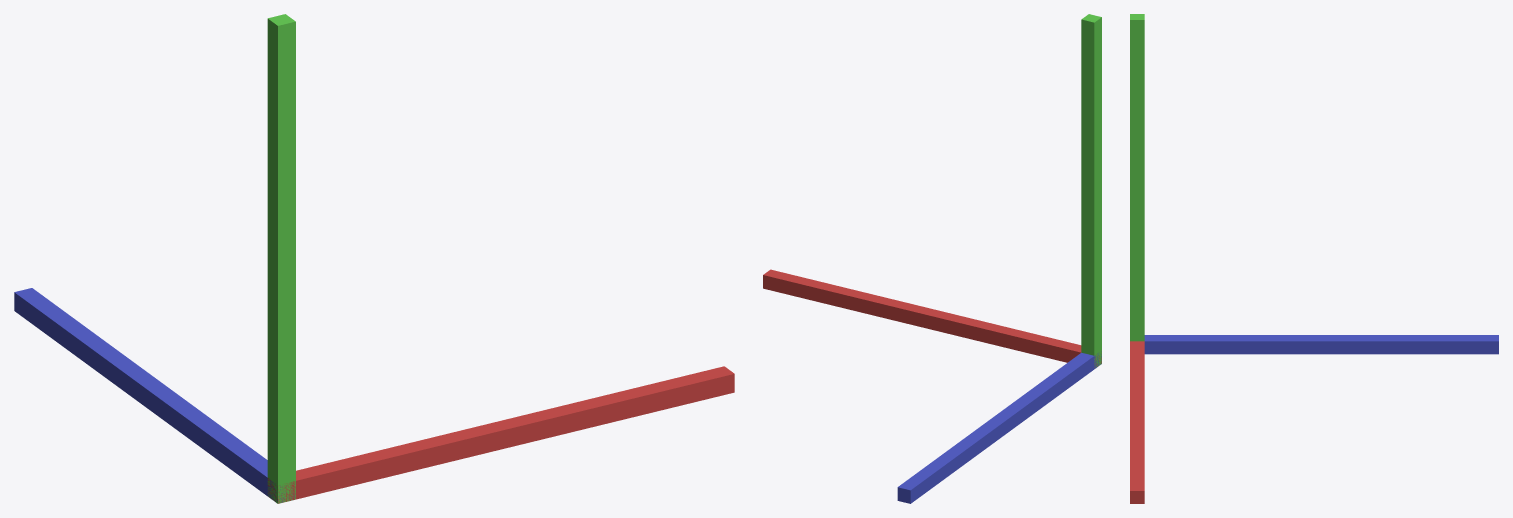
Rendered from Compass.fbx.
The picture shows the model from 3 angles, left to right: view 1: azimuth 30°, elevation 25°; view 2: azimuth 150°, elevation 25°; view 3: azimuth 270°, elevation 25°; orthographic projection. The views are drawn at different scales.
Parts seen in each view (by area): view 1: Compass; view 2: Compass; view 3: Compass.
Part boxes in pixels (x1,y1,x2,y2): Compass: [14, 14, 734, 503]; Compass: [763, 14, 1101, 503]; Compass: [1130, 14, 1498, 503].
Size of the model in its own units: 102 by 102 by 102.
